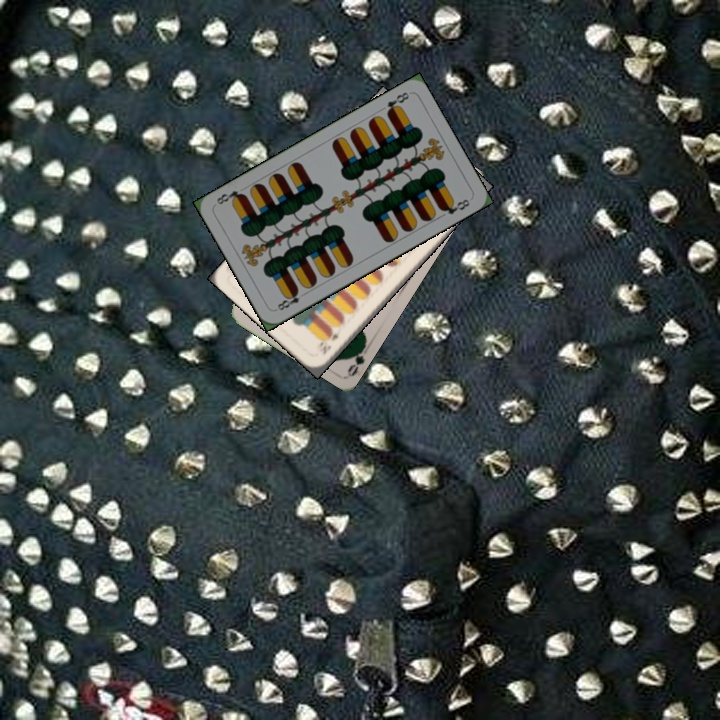E10: (316, 324, 344, 358)
E8: (272, 286, 309, 313), (382, 88, 412, 118)
GO: (343, 339, 369, 378)
